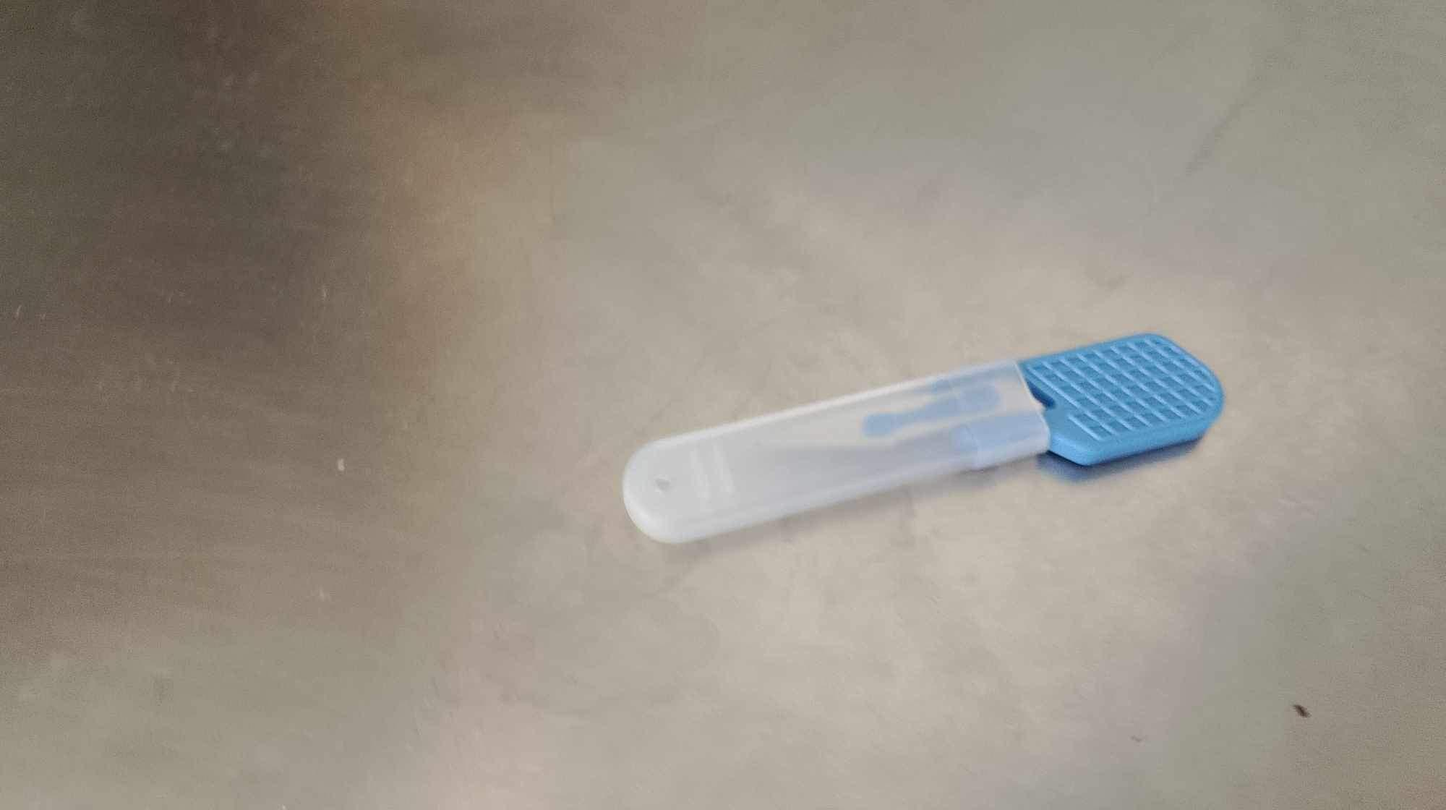General: (6, 5, 1437, 803), (1017, 329, 1226, 471)
Sharps: (620, 329, 1225, 546)
